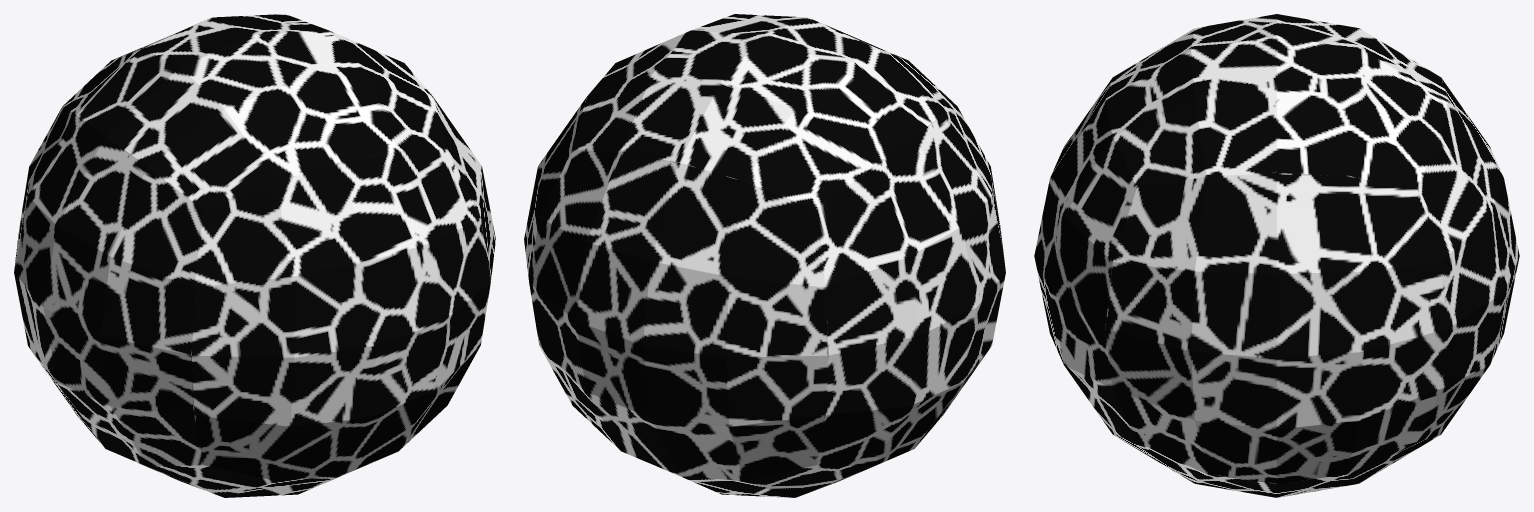
File: Pr_electro.fbx
3 views of the same model, side by side, from view 1: azimuth 30°, elevation 25°; view 2: azimuth 150°, elevation 25°; view 3: azimuth 270°, elevation 25° (orthographic).
Visible parts, largest first — view 1: Prjct; view 2: Prjct; view 3: Prjct.
Boxes of the visible parts, bbox=[...] form: Prjct: bbox=[14, 14, 495, 497]; Prjct: bbox=[524, 14, 1005, 497]; Prjct: bbox=[1034, 14, 1519, 497].
Bounding box in the file's own units: 200 × 200 × 200.
Materials: 1 (1 with a texture image).
